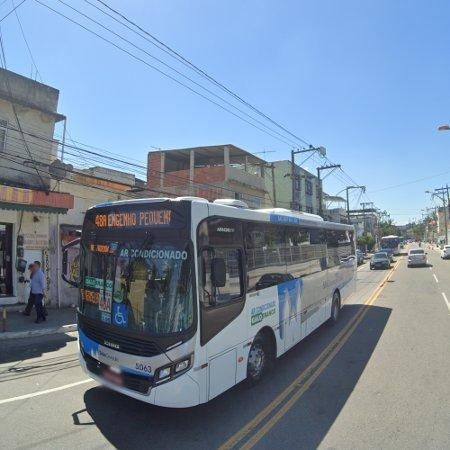buses: (77, 197, 356, 409)
